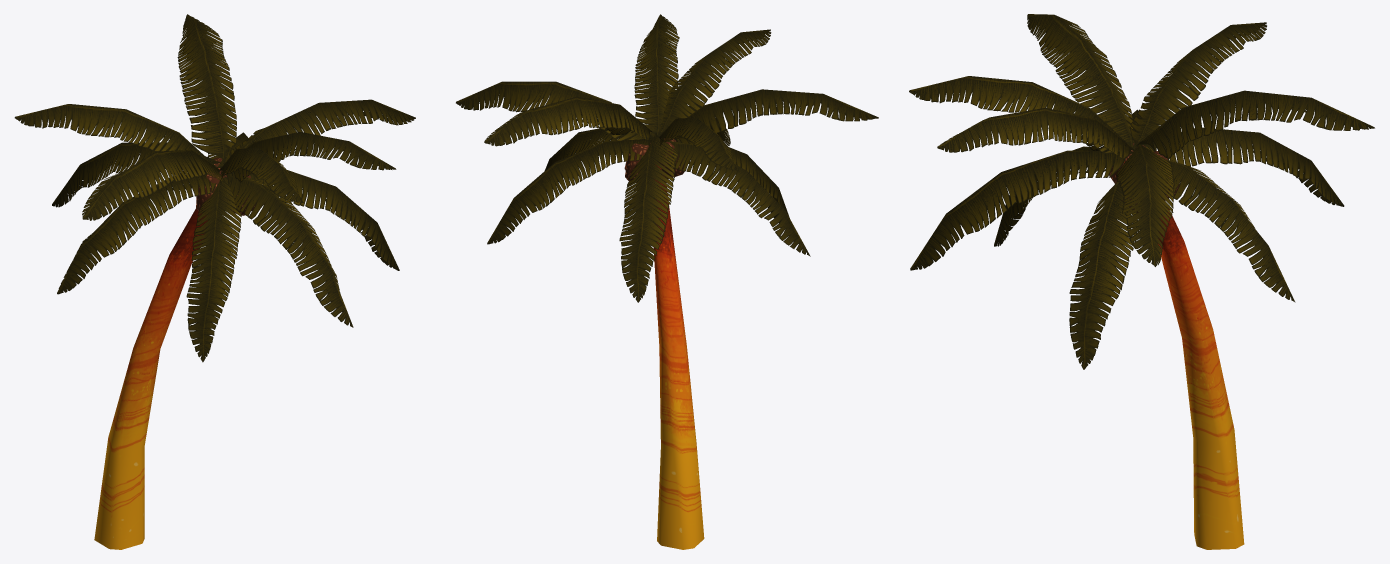
File: Elvis_Tree_01.FBX
The picture shows the model from 3 angles, left to right: view 1: azimuth 30°, elevation 25°; view 2: azimuth 150°, elevation 25°; view 3: azimuth 270°, elevation 25°; orthographic projection. The views are drawn at different scales.
Parts seen in each view (by area): view 1: Tree_003; view 2: Tree_003; view 3: Tree_003.
Part boxes in pixels (left/top/right/bottom): Tree_003: left=14, top=14, right=415, bottom=549; Tree_003: left=456, top=14, right=878, bottom=549; Tree_003: left=909, top=14, right=1374, bottom=549.
Size of the model in its own units: 10.6 by 11.67 by 9.77.
